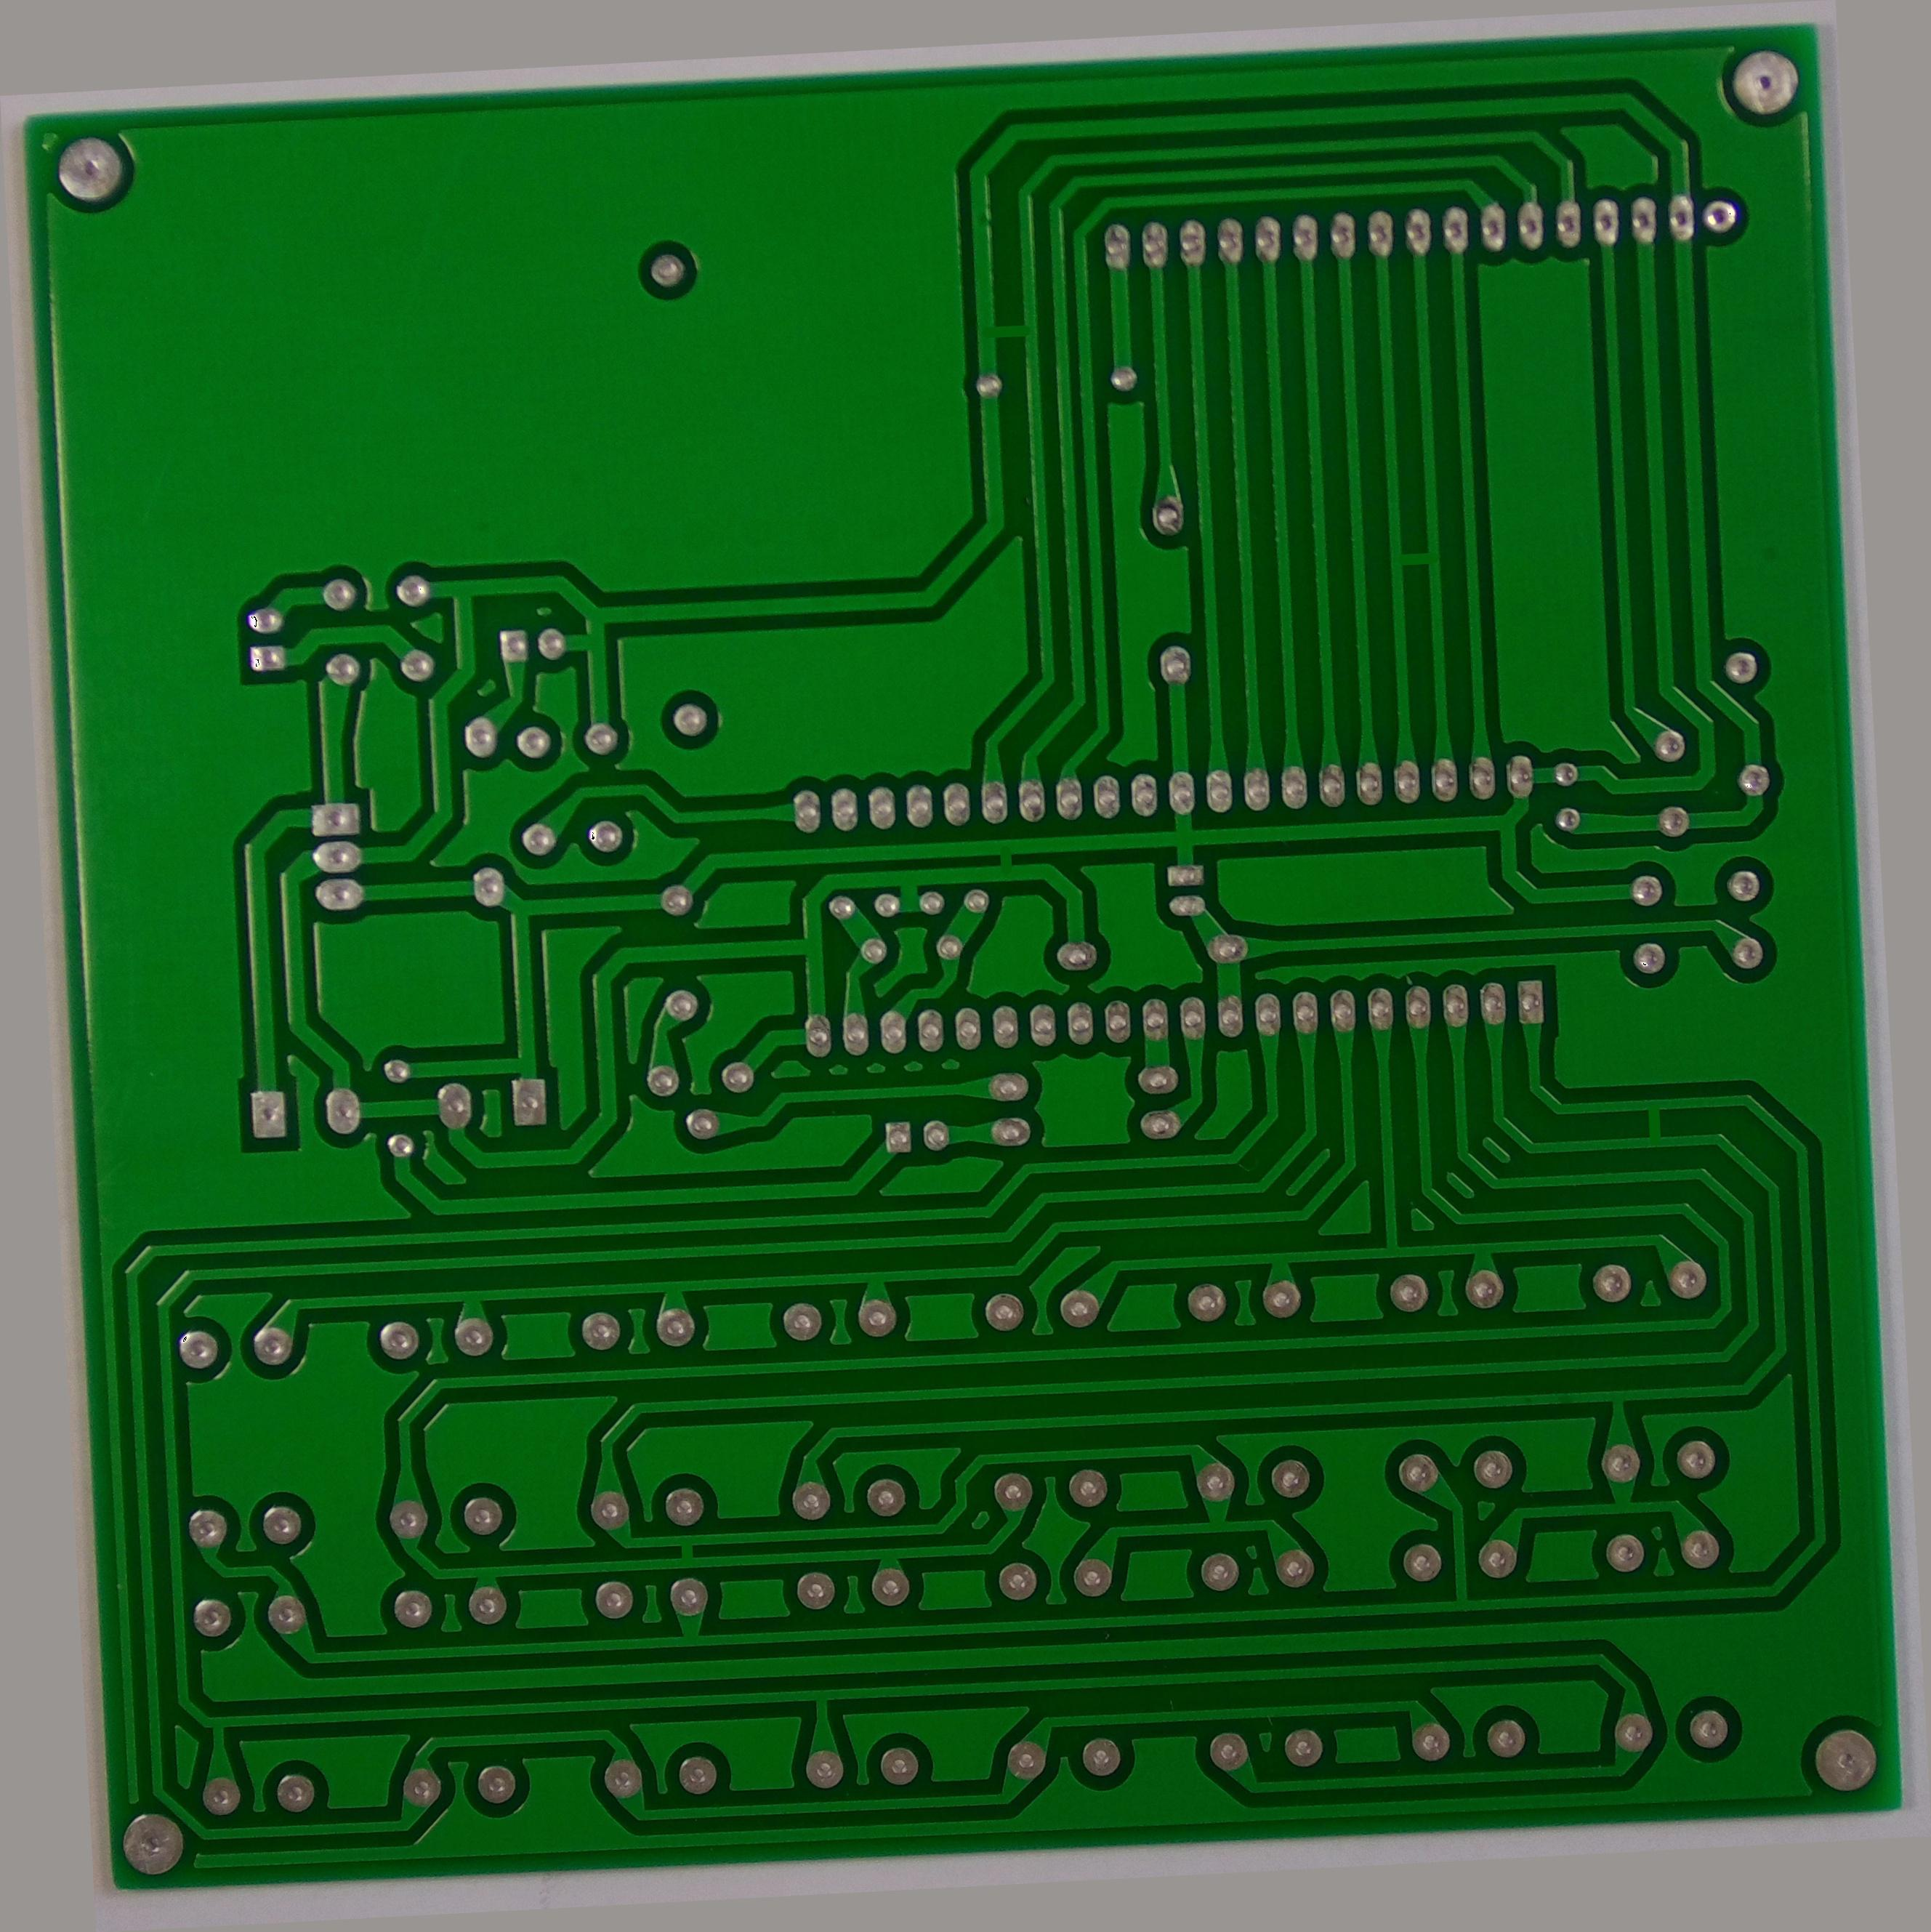short: (1381, 531, 1446, 584), (969, 304, 1040, 352), (1629, 1085, 1675, 1155), (985, 830, 1031, 888), (665, 1527, 706, 1569)
